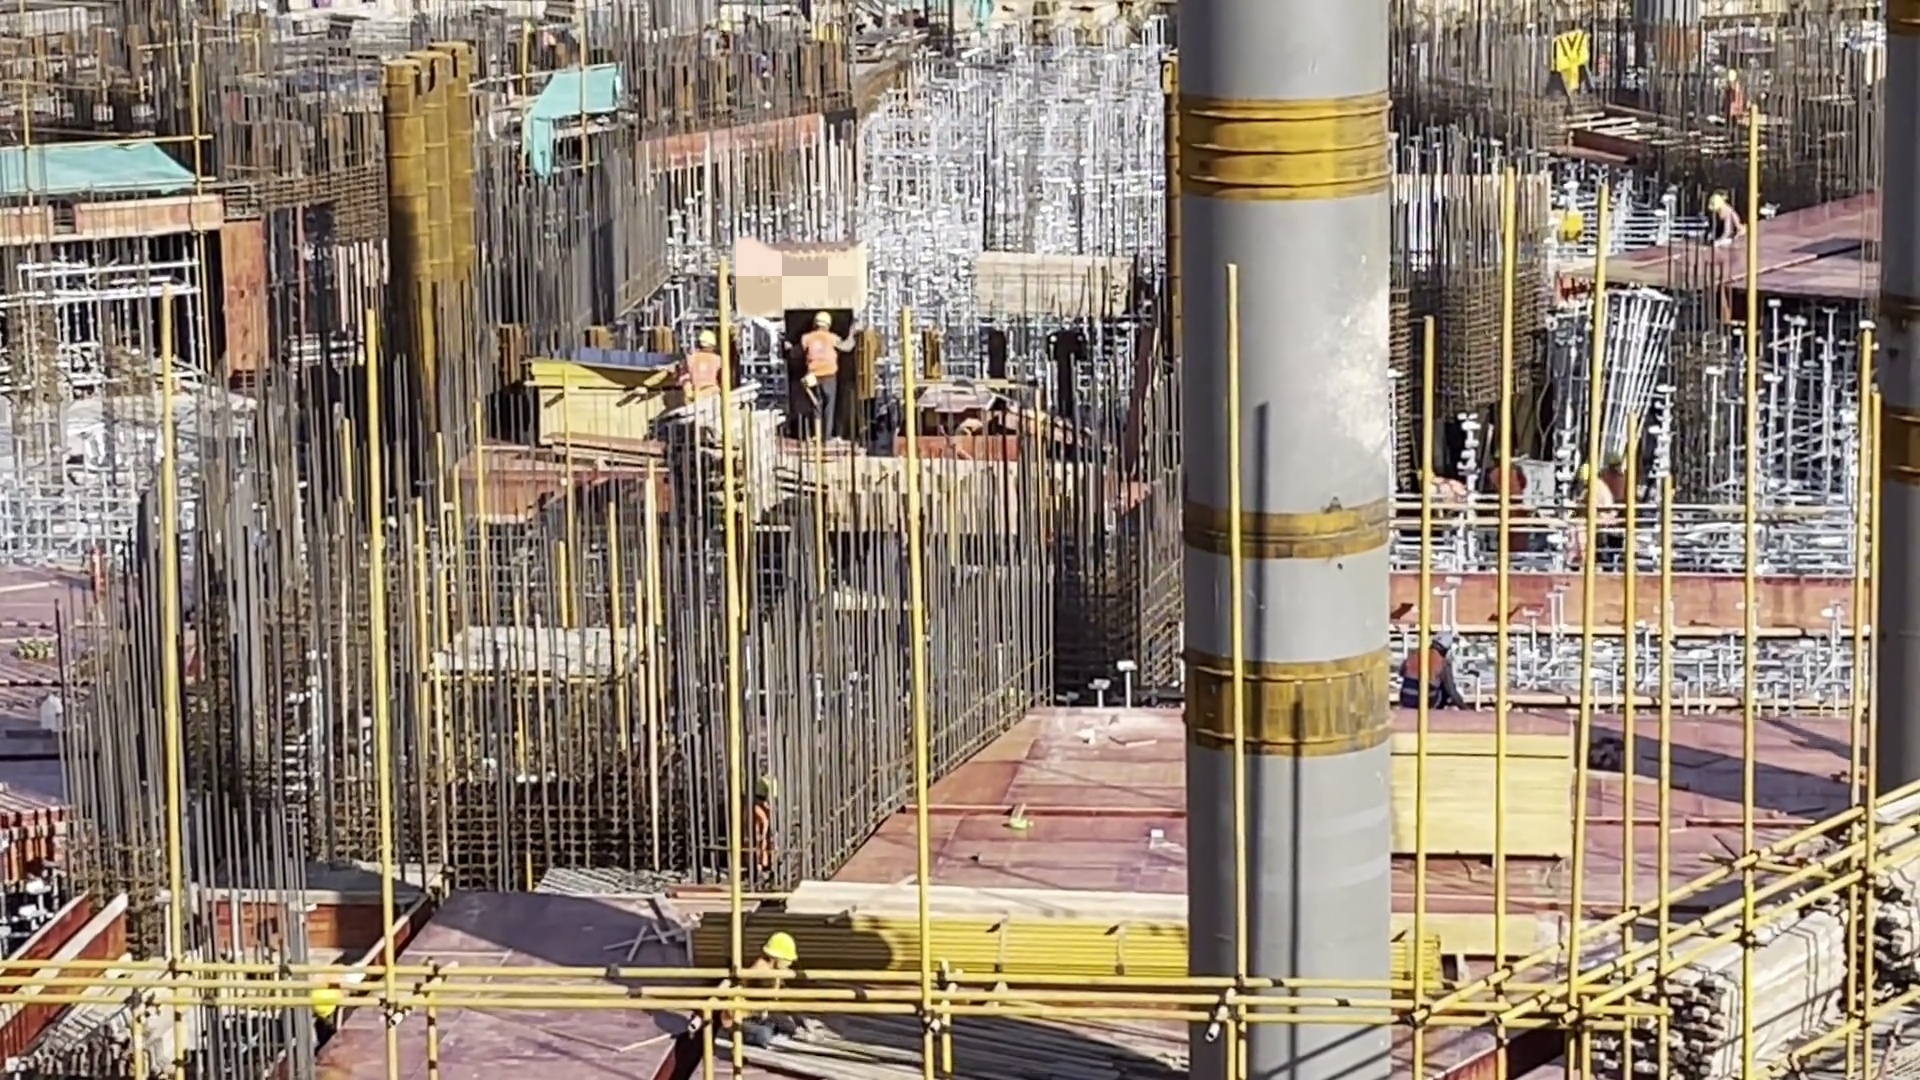board: (1394, 732, 1573, 861), (968, 252, 1116, 326)
helmet: (764, 927, 799, 964), (756, 773, 778, 799), (810, 310, 831, 332), (693, 327, 713, 348), (1576, 465, 1597, 485), (1731, 65, 1748, 84), (1609, 453, 1625, 475), (1437, 628, 1452, 650), (1418, 463, 1435, 477), (1501, 448, 1519, 461), (1713, 192, 1725, 202)
hook: (1536, 26, 1579, 121)
person: (724, 938, 808, 1035), (794, 306, 848, 441), (1399, 625, 1463, 709), (684, 331, 741, 416), (1408, 465, 1473, 531), (749, 768, 786, 876), (1493, 443, 1528, 538), (1704, 185, 1755, 241), (1573, 471, 1613, 535), (1717, 68, 1748, 141), (1606, 440, 1638, 495)
vest: (724, 966, 779, 1021), (804, 327, 844, 381), (1409, 653, 1451, 697), (748, 801, 776, 857), (689, 354, 726, 389), (1438, 478, 1471, 512), (1588, 487, 1610, 526), (1492, 465, 1523, 493), (1730, 84, 1744, 118), (1711, 206, 1736, 224), (1607, 468, 1622, 496)
wood: (686, 407, 778, 537)
